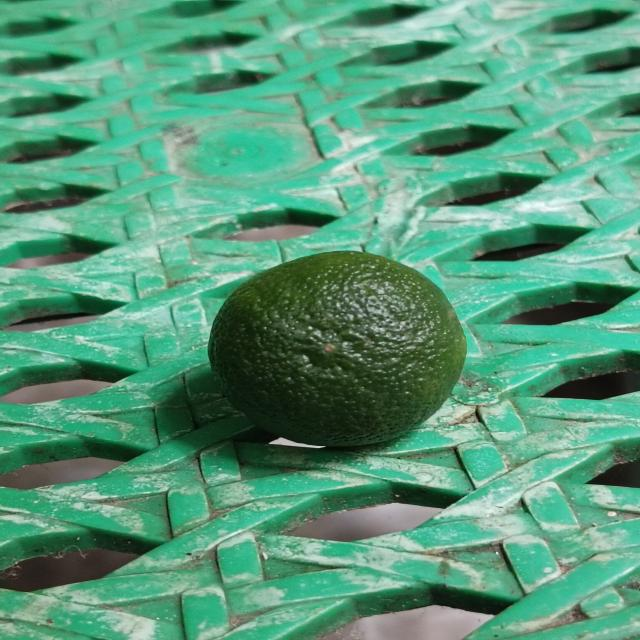heathy: (209, 251, 471, 447)
